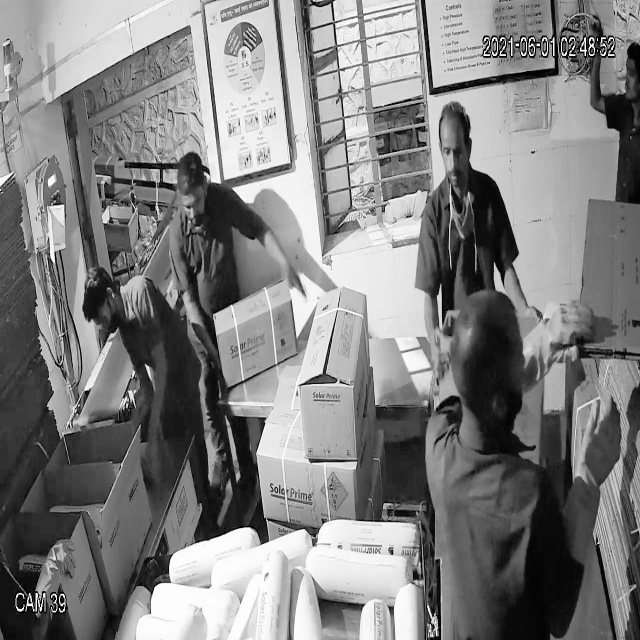Sin_gafas: (430, 137, 476, 171)
